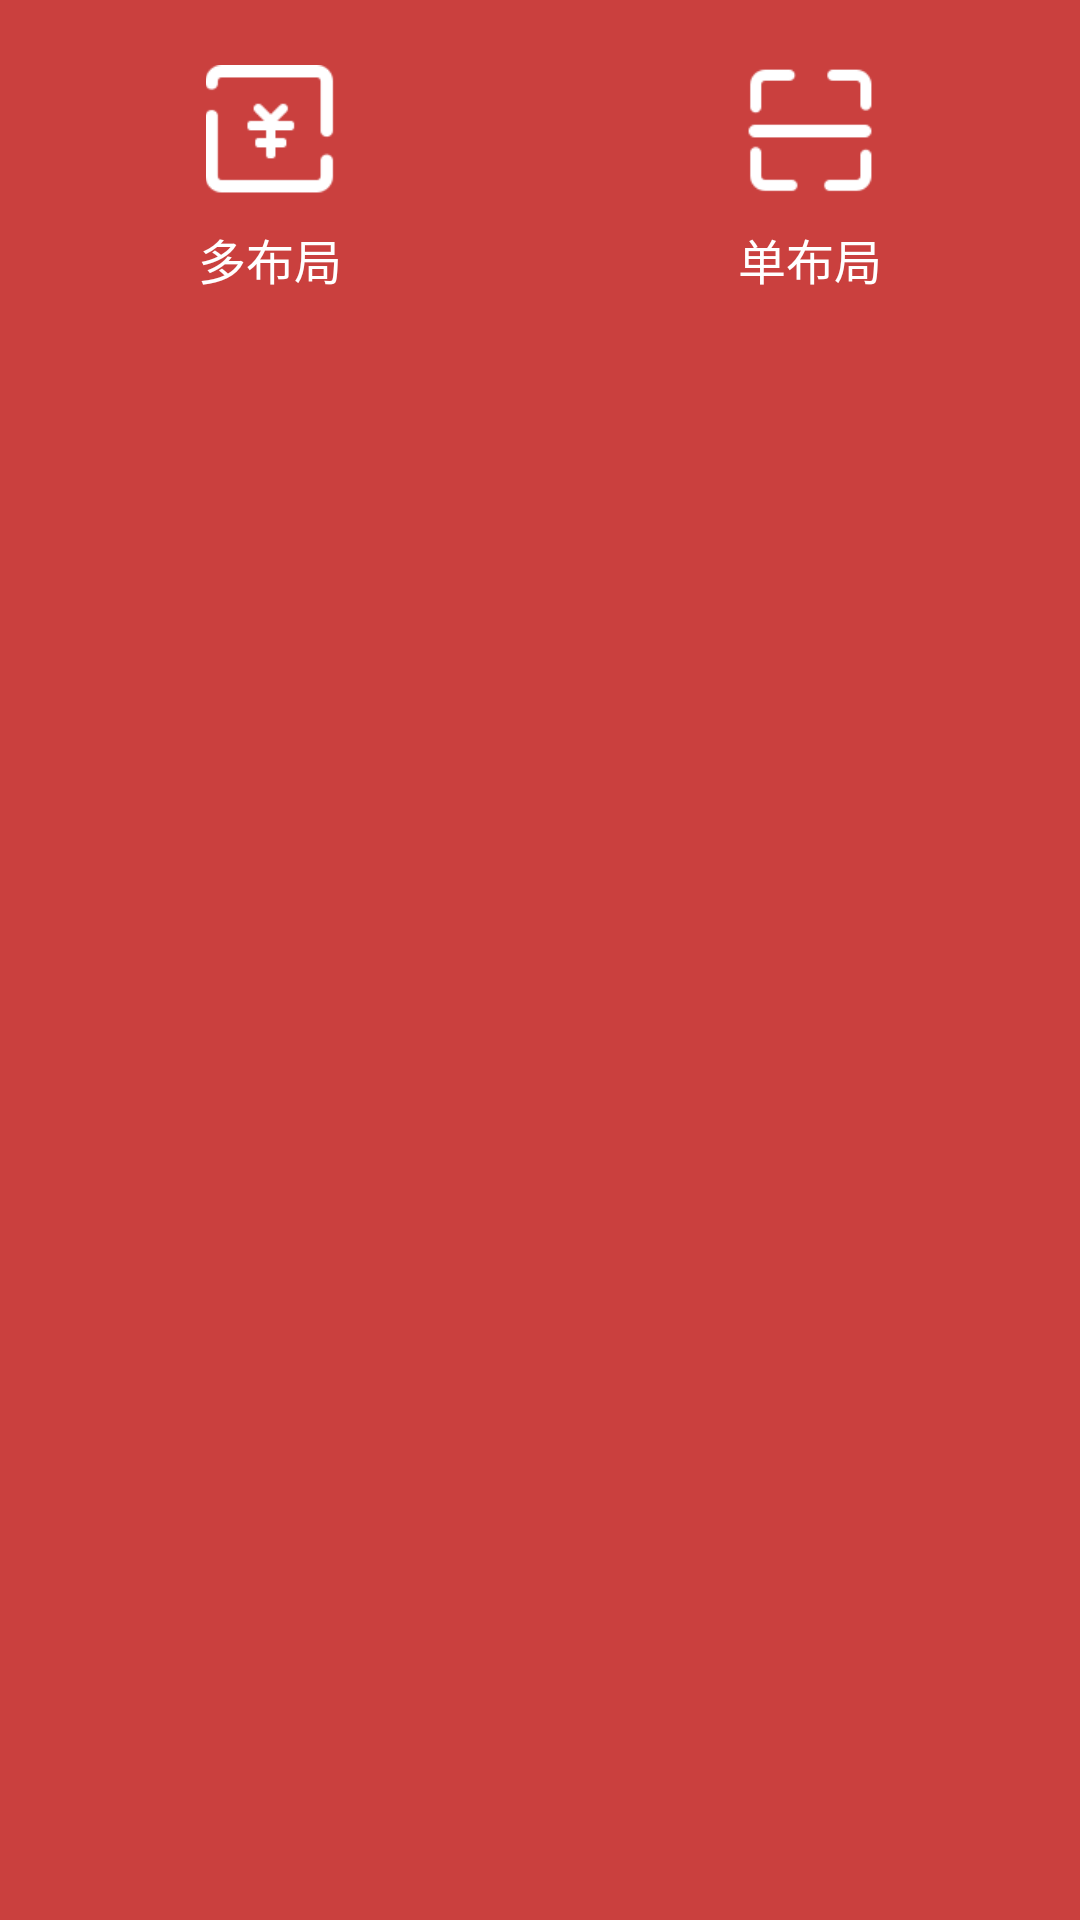

Named icons in this screenshot (1080x1920) and their centers, [x,y]:
home gather: [270,129]
home scan: [810,130]
